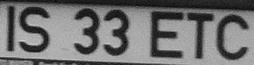3: (67, 4, 101, 56), (102, 5, 129, 57)
C: (216, 11, 249, 64)
E: (146, 7, 186, 61)
I: (2, 1, 22, 56)
S: (17, 3, 54, 58)
T: (186, 7, 215, 64)
